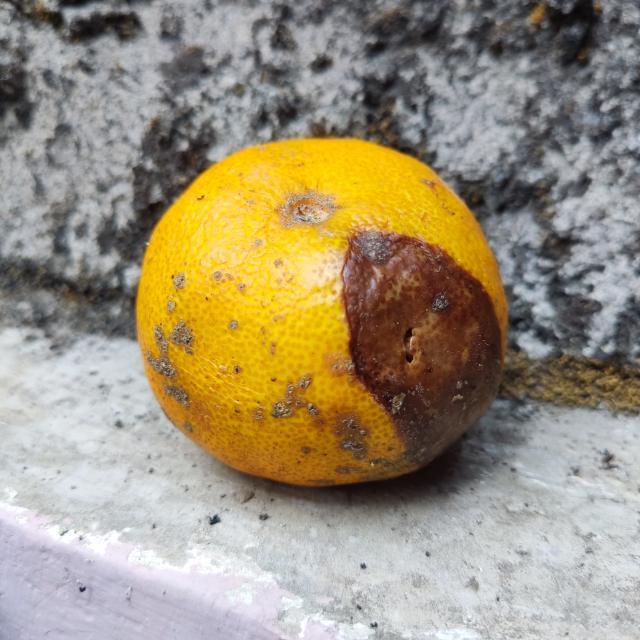orange: (134, 136, 512, 486)
